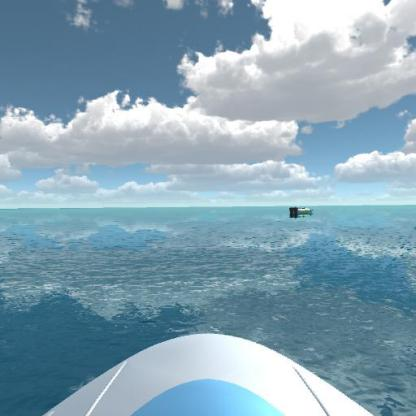usv0: (286, 203, 316, 221)
